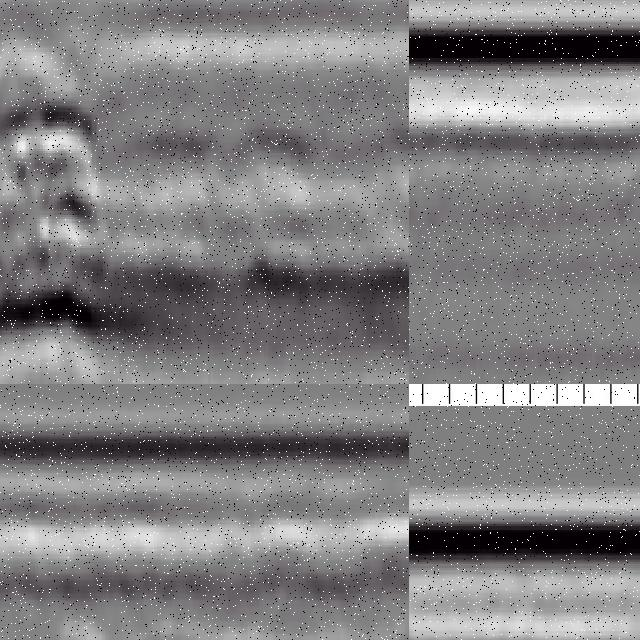loose: (1, 85, 128, 354)
